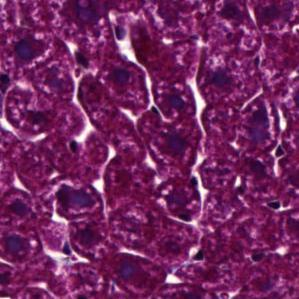inflammation: (236, 98, 293, 143), (49, 181, 104, 226)
